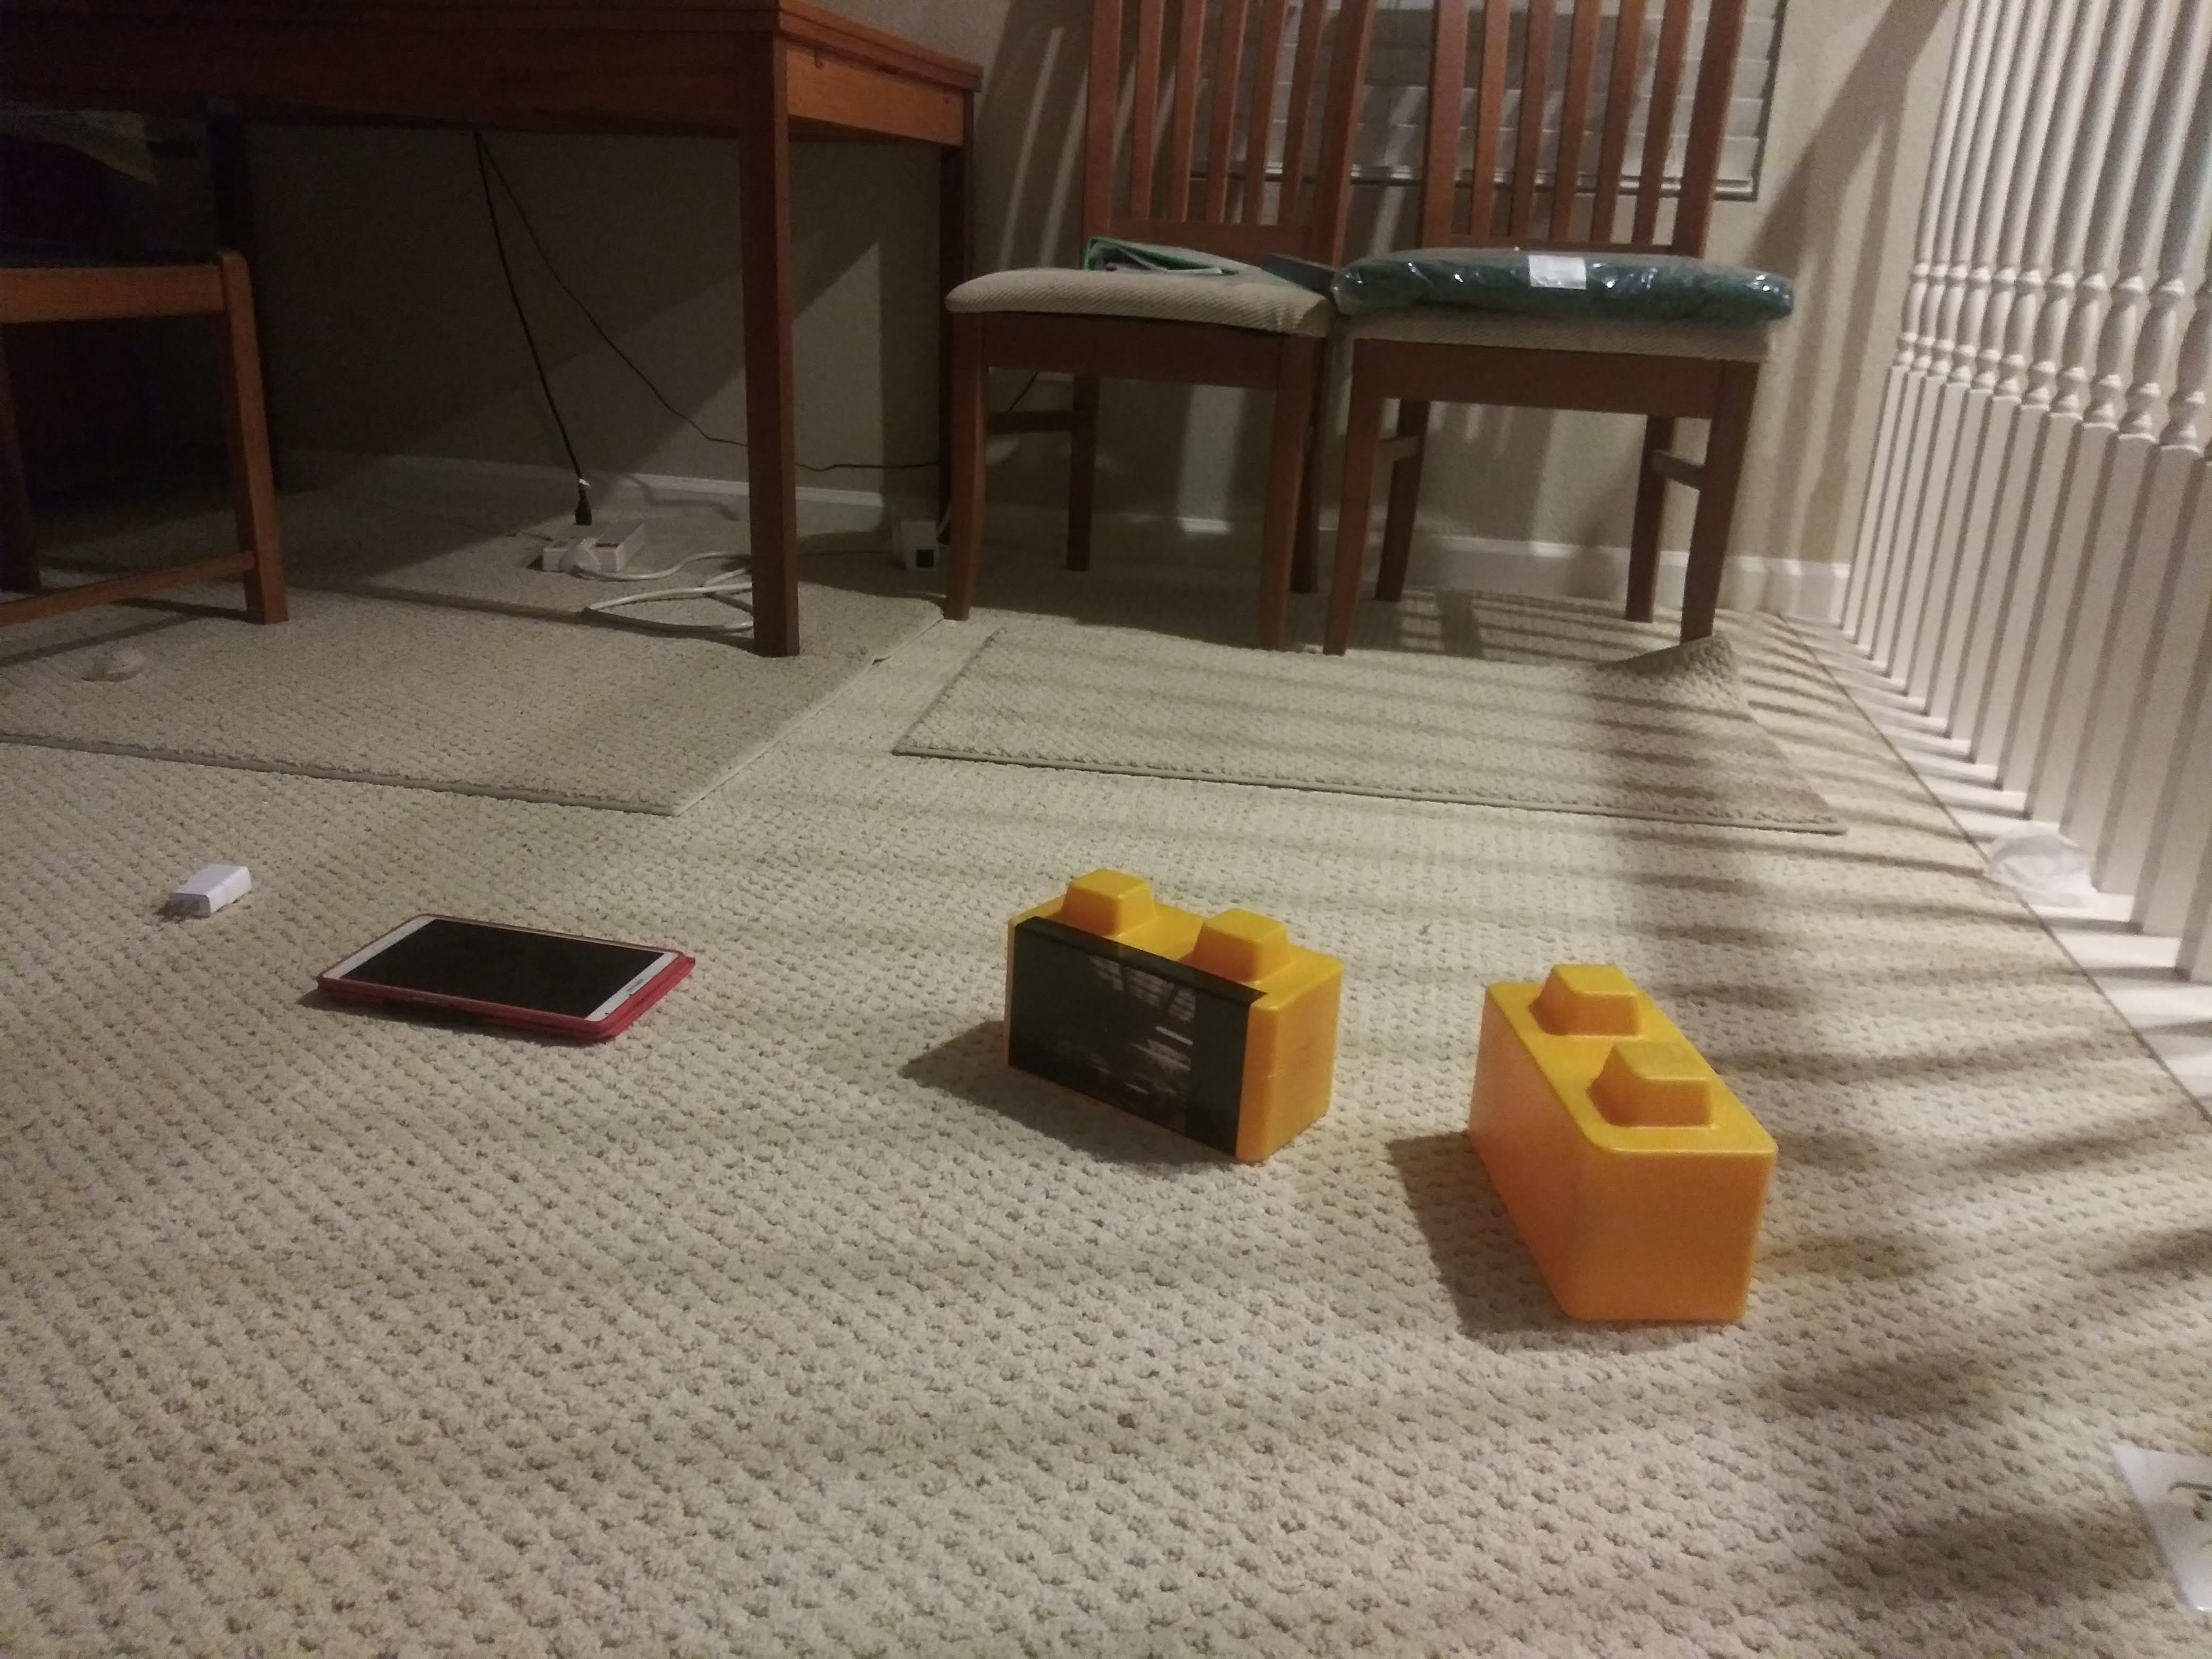skystone: (998, 897, 1338, 1152)
stone: (1465, 978, 1763, 1309)
